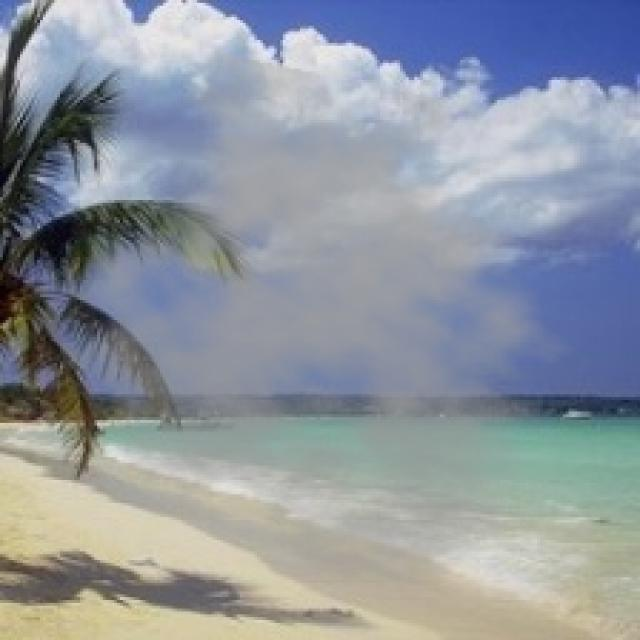smoke: (57, 49, 597, 588)
